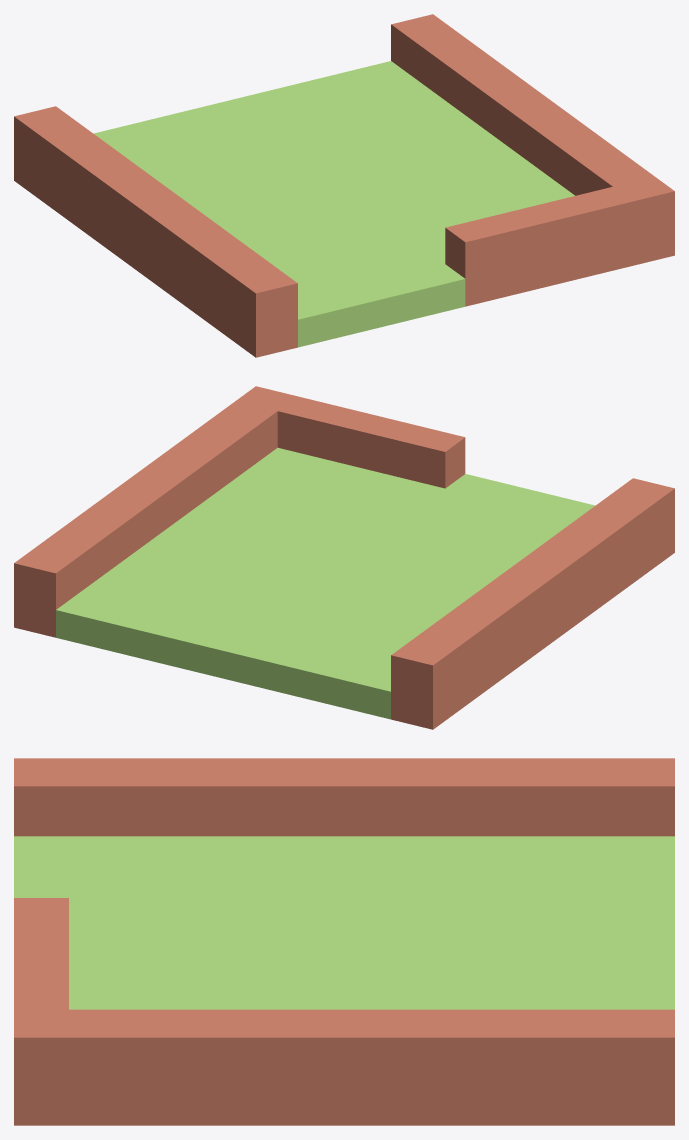
File: Wall_right_01.glb
3 views of the same model, one above another, from view 1: azimuth 30°, elevation 25°; view 2: azimuth 150°, elevation 25°; view 3: azimuth 270°, elevation 25° (orthographic). The views are drawn at different scales.
Parts seen in each view (by area): view 1: Mesh1 Wall_right Model; view 2: Mesh1 Wall_right Model; view 3: Mesh1 Wall_right Model.
Boxes of the visible parts, <box> form: Mesh1 Wall_right Model: <box>14,14,674,357</box>; Mesh1 Wall_right Model: <box>14,386,674,729</box>; Mesh1 Wall_right Model: <box>14,758,674,1125</box>.
Size of the model in its own units: 3 by 0.44 by 3.
